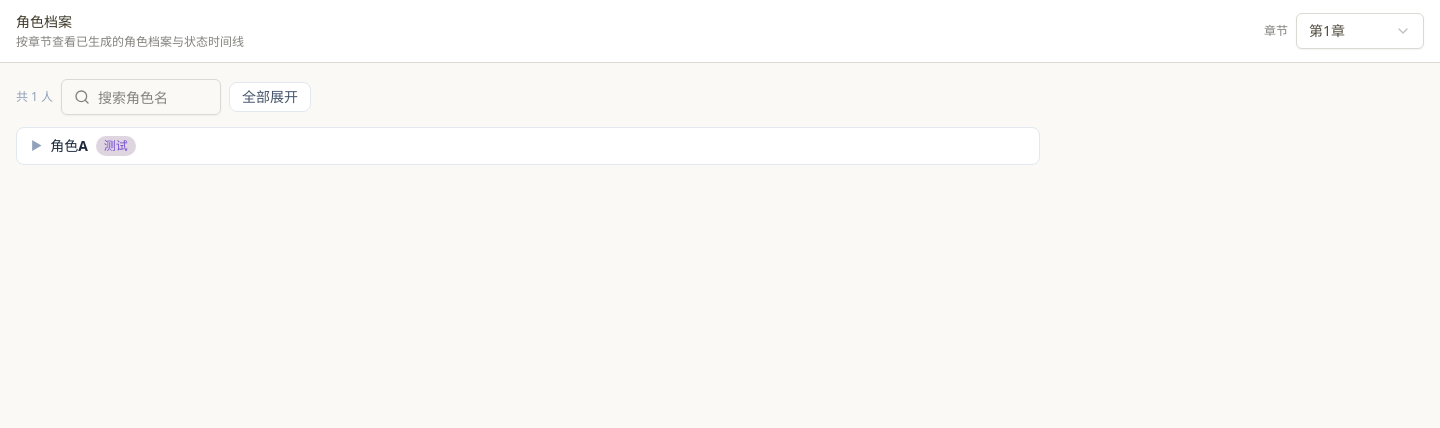
CharacterArchivePage › 渲染称呼池形态 address_ref/self_ref 不崩溃（React #31 回归）
Step 1. Click the button "全部展开" → (270, 97), box [229,82,311,112]
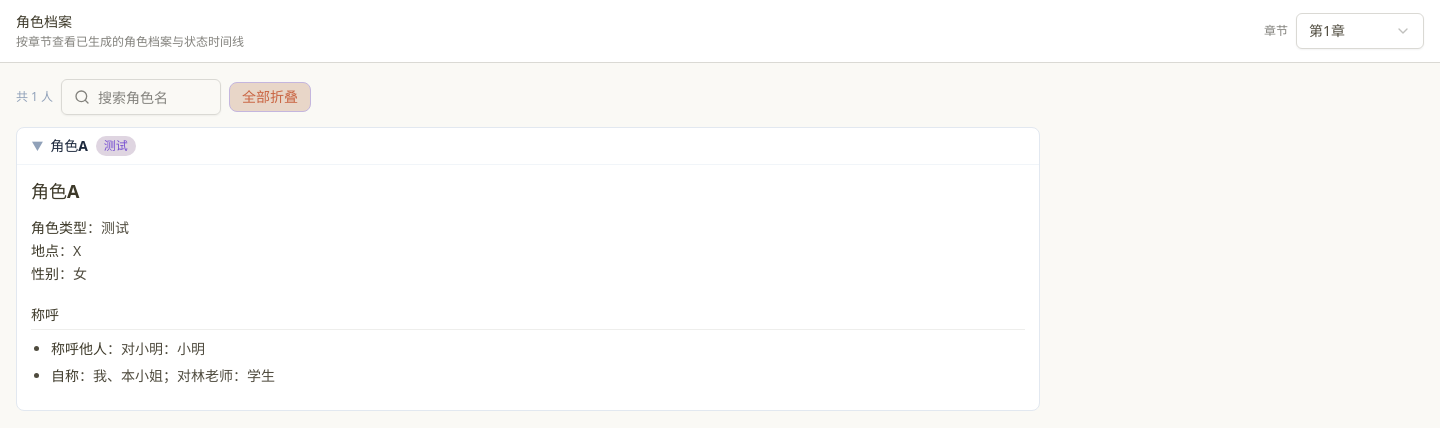
Expected: the list item "称呼他人：对小明：小明" is shown, [51,339,205,358]
Expected: the list item "自称：我、本小姐；对林老师：学生" is shown, [51,366,275,385]
